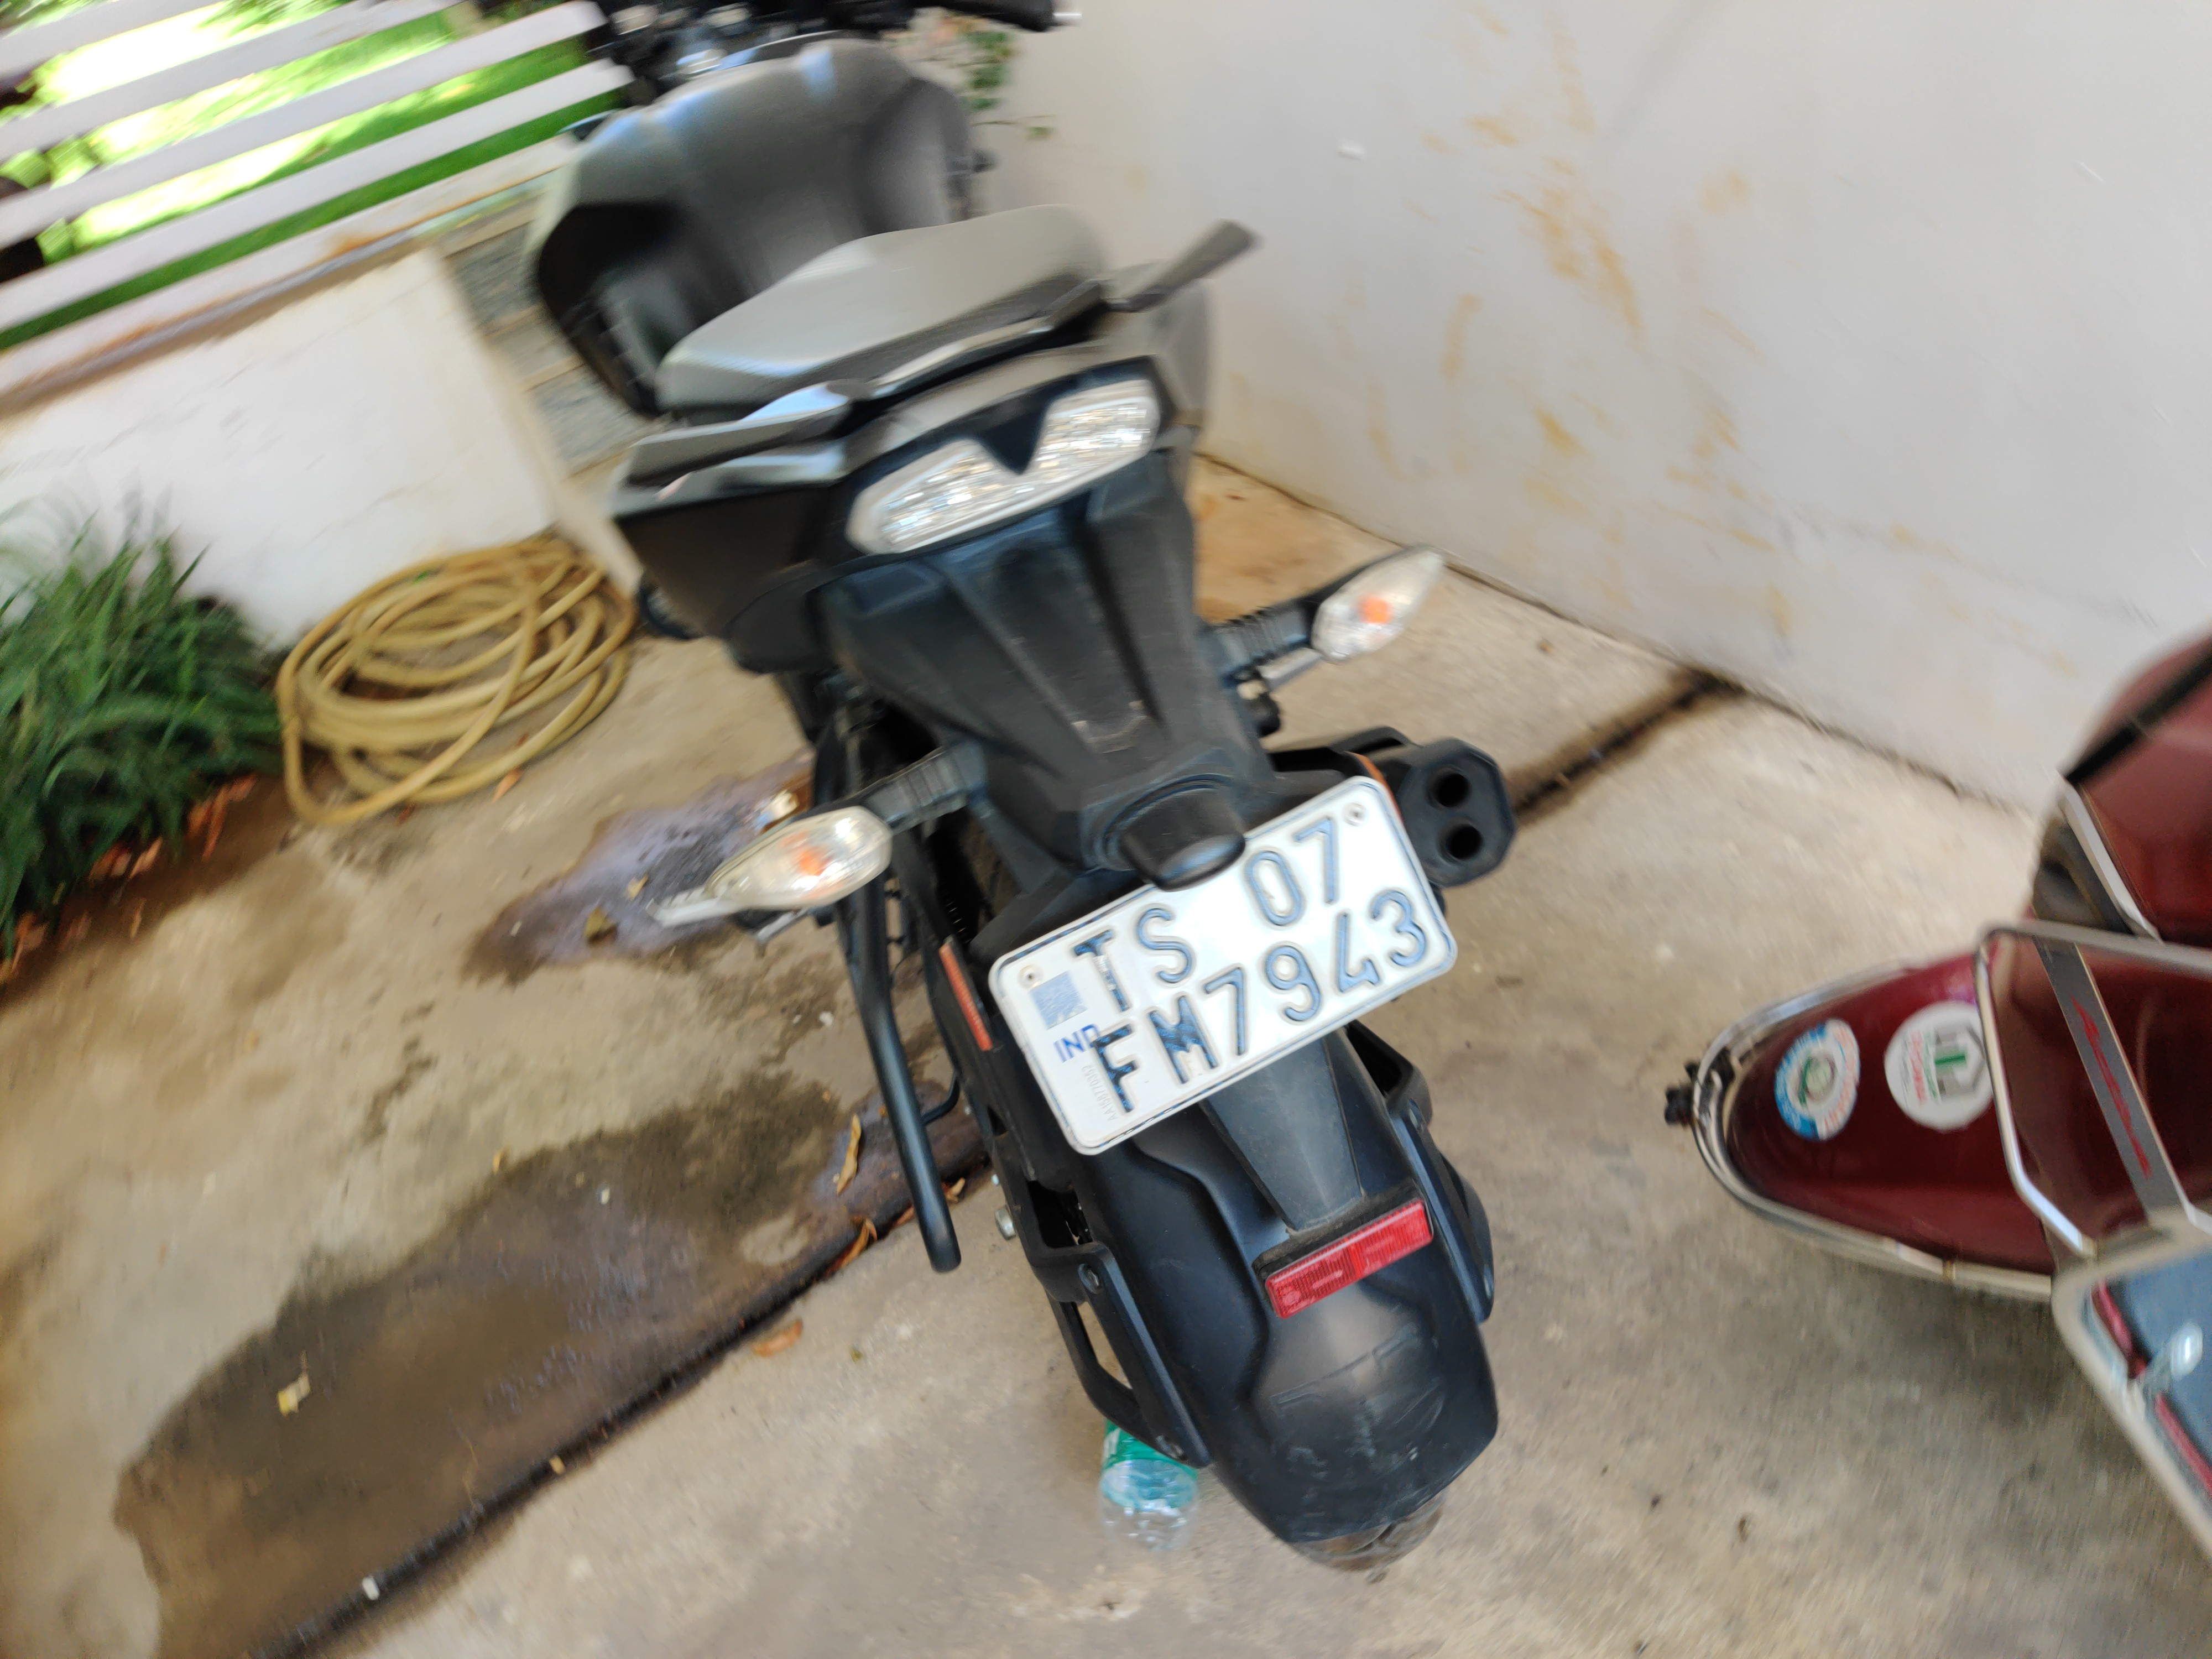plate: (954, 744, 1484, 1172)
